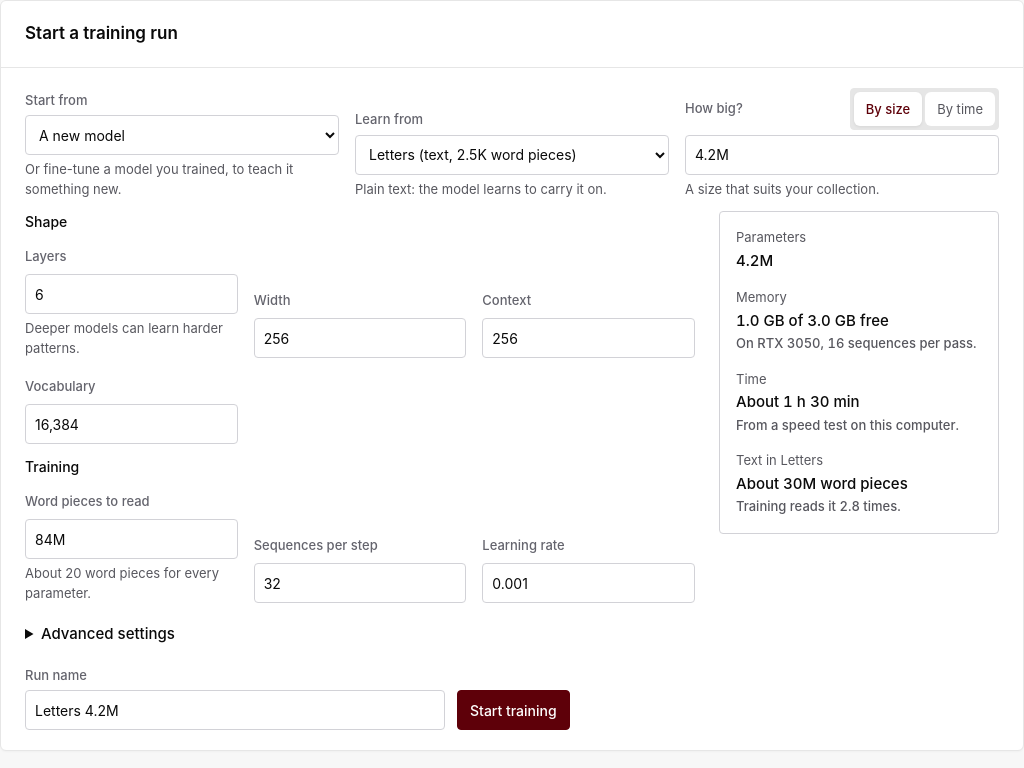
it: keeps the last plan on screen while the next one loads, and waits for it
expect the button "Start training" is enabled: met, box [457,690,570,730]
Replace the text in the field labelled "Layers" with "12" at (131, 294), box [25,274,238,314]
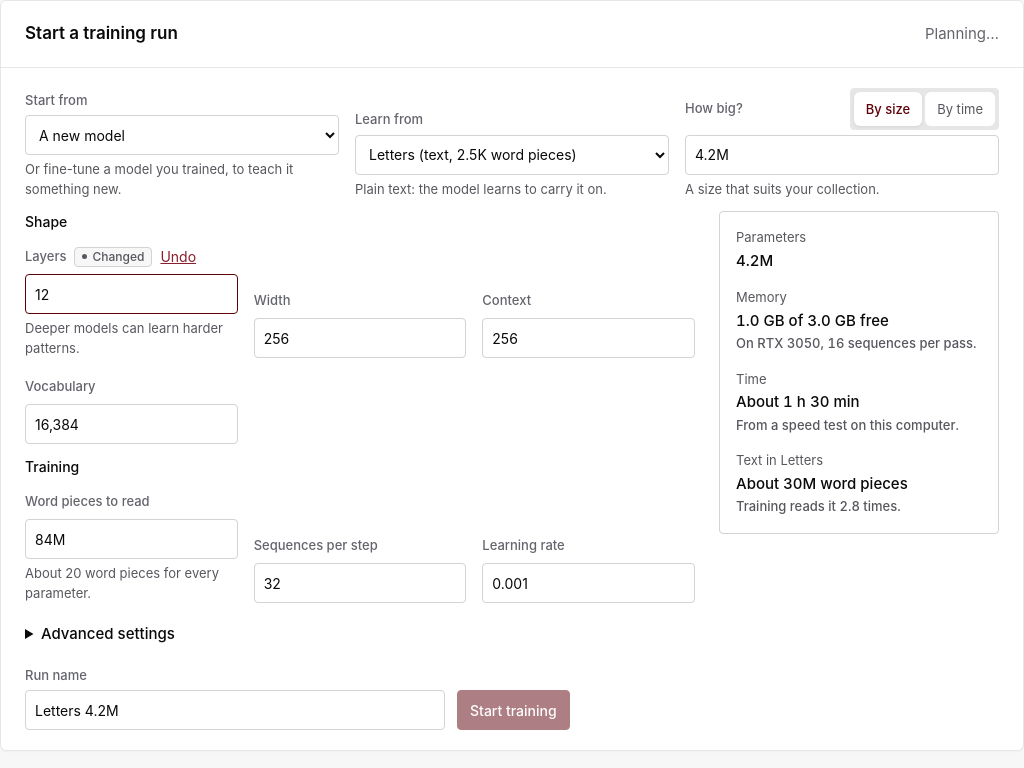
expect the text "Deeper models can learn harder patterns." is shown: met, box [25,319,238,358]
expect the text "Planning…" is shown: met, box [925,22,999,45]
expect the button "Start training" is disabled: met, box [457,690,570,730]
